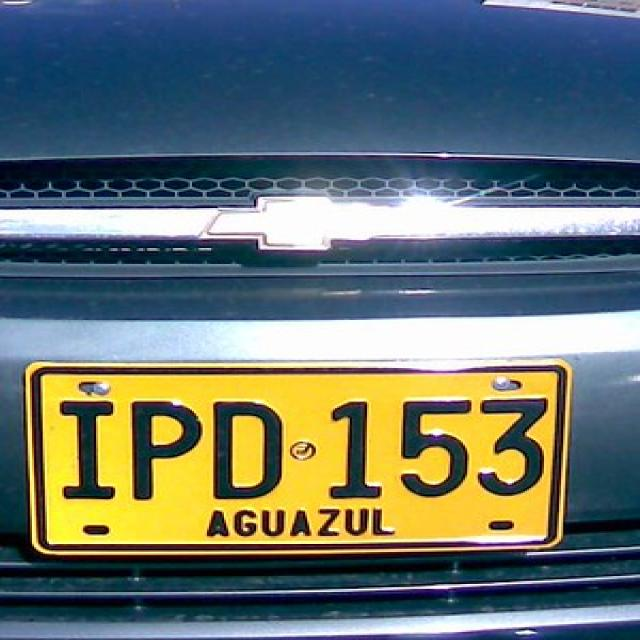placa_carro: (23, 359, 570, 552)
